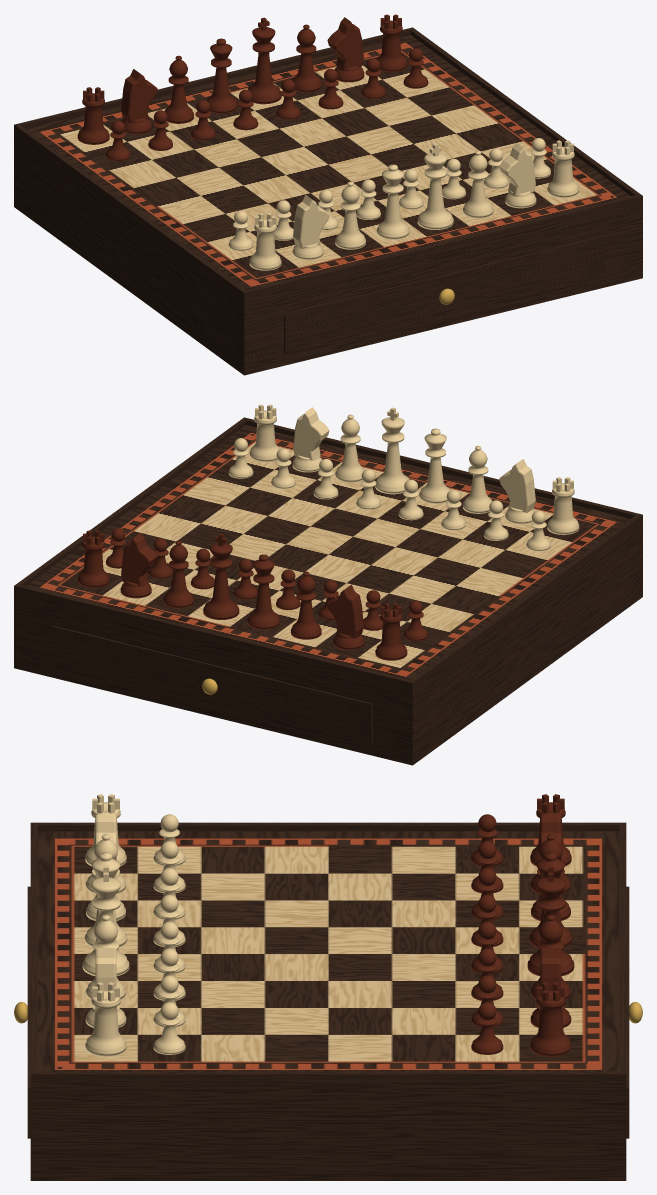
File: philidor-3d-noyer-erable-30-v2.glb
3 views of the same model, one above another, from view 1: azimuth 30°, elevation 25°; view 2: azimuth 150°, elevation 25°; view 3: azimuth 270°, elevation 25° (orthographic). The views are drawn at different scales.
Parts seen in each view (by area): view 1: noyer-erable-30; view 2: noyer-erable-30; view 3: noyer-erable-30.
Boxes of the visible parts, x1=… form: noyer-erable-30: x1=14, y1=14, x2=642, y2=375; noyer-erable-30: x1=14, y1=404, x2=642, y2=765; noyer-erable-30: x1=14, y1=794, x2=642, y2=1180.
Size of what is drawn, in the model's own units: 0.3 by 0.112 by 0.3167.
Materials: 6 (3 with a texture image).
